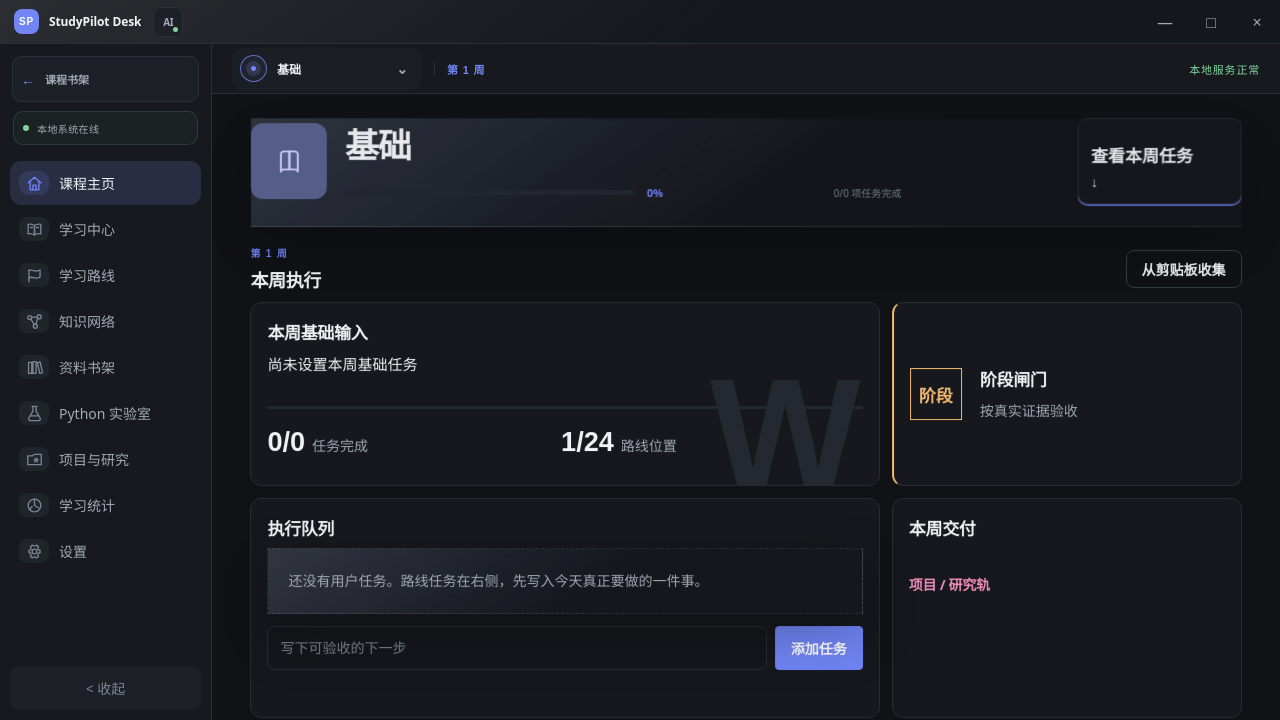
Scenario: API failures are shown as friendly Chinese messages
Expected: the heading "本周执行" is shown, [250,266,321,292]
In the field named "新任务": point(517, 648) [267,626,767,670], type "测试错误"
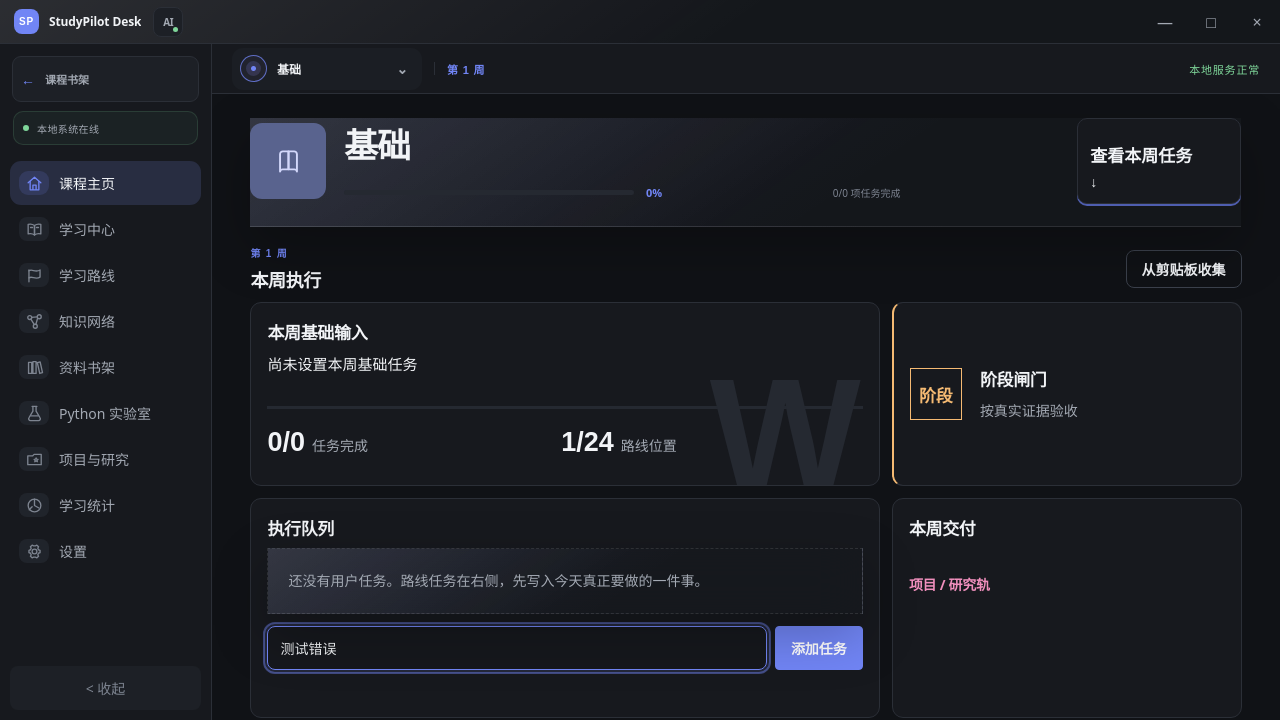
Click the button "添加任务": point(819, 648) [775,626,863,670]
(page scrolled)
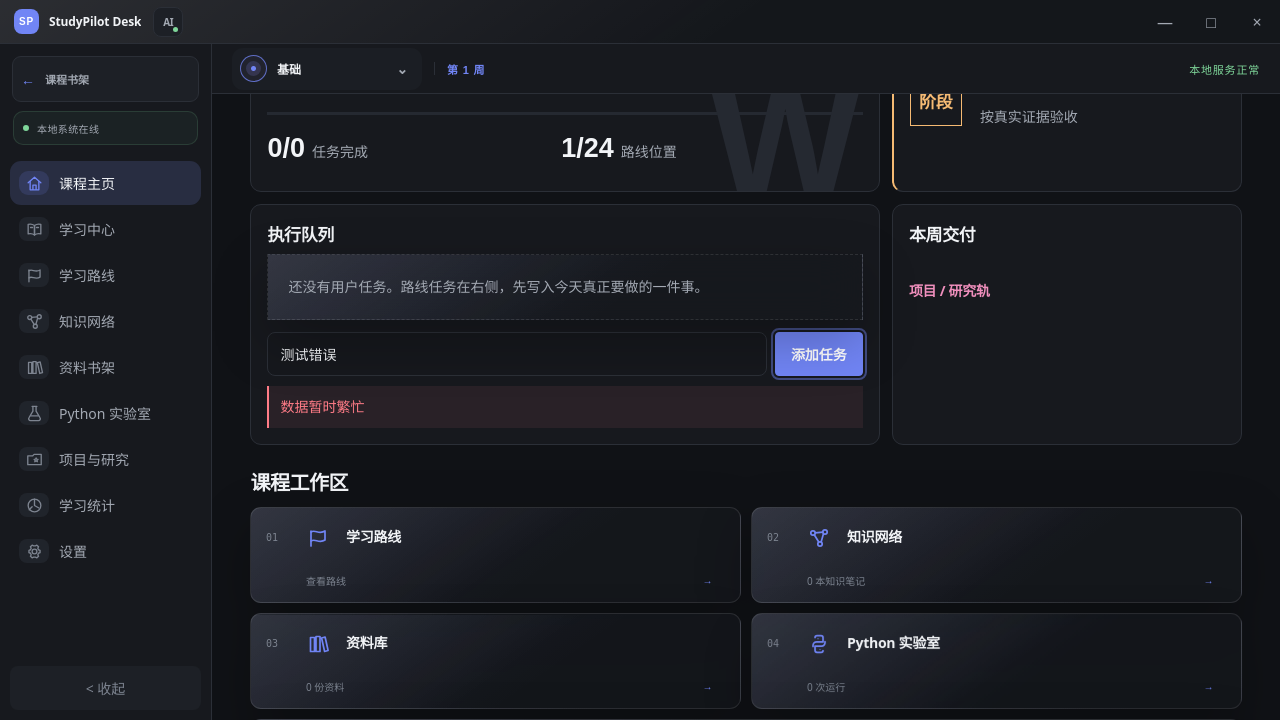
Expected: the message reads "数据暂时繁忙", [280,397,364,416]
